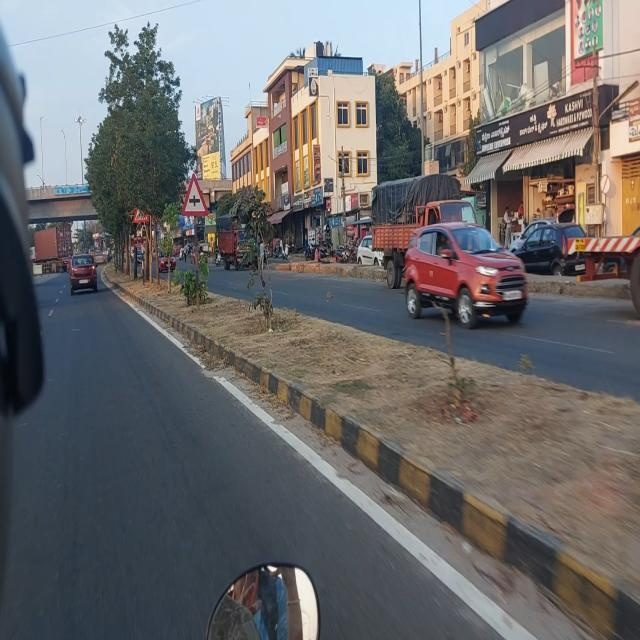bien_nguy_hiem: (180, 173, 209, 216)
